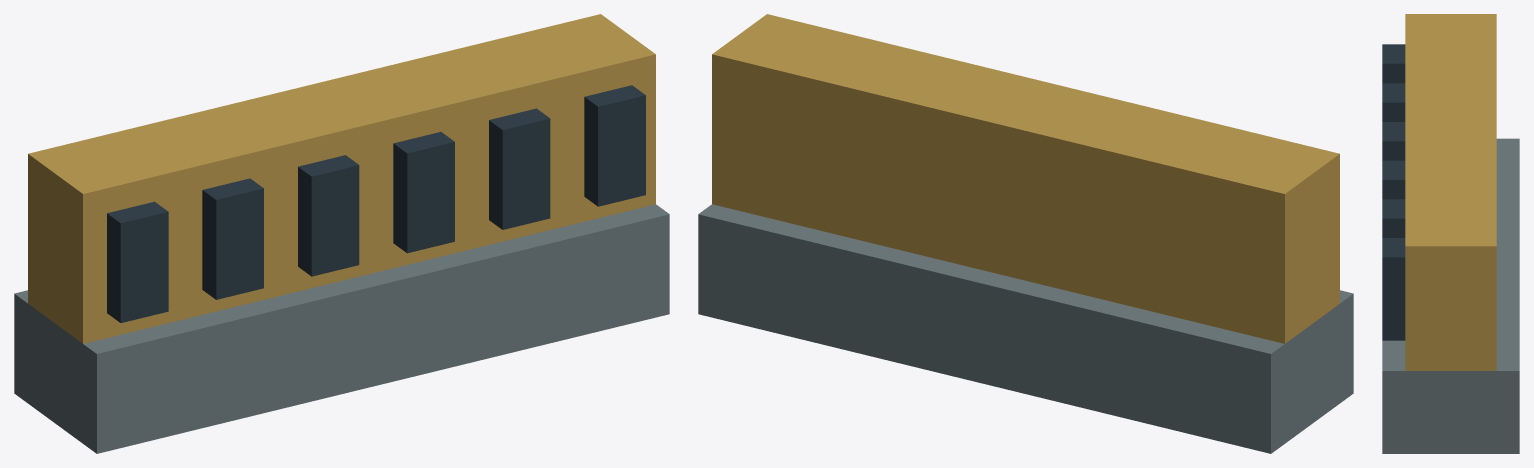
File: construction-12.glb
The picture shows the model from 3 angles, left to right: view 1: azimuth 30°, elevation 25°; view 2: azimuth 150°, elevation 25°; view 3: azimuth 270°, elevation 25°; orthographic projection. The views are drawn at different scales.
Visible parts, largest first — view 1: Concrete barrier; view 2: Concrete barrier; view 3: Concrete barrier.
Part boxes in pixels (x1,y1,x2,y2): Concrete barrier: (14,14,669,453); Concrete barrier: (698,14,1353,453); Concrete barrier: (1382,14,1519,453).
Bounding box in the file's own units: 1.92 × 0.8 × 0.48.
